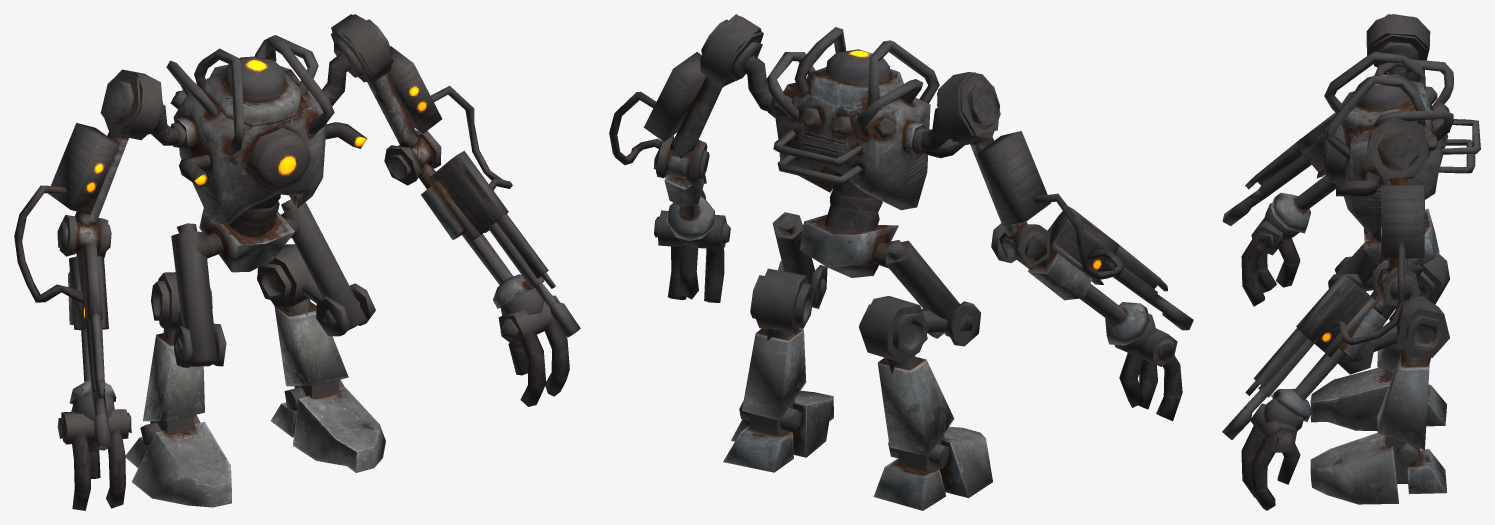
3 renders of one model, left to right at view 1: azimuth 30°, elevation 25°; view 2: azimuth 150°, elevation 25°; view 3: azimuth 270°, elevation 25°, orthographic. The views are drawn at different scales.
Visible parts, largest first — view 1: FBotmesh, FBotmesh.010, FBotmesh.011, FBotmesh.006, FBotmesh.004, FBotmesh.003, FBotmesh.002, FBotmesh.005, FBotmesh.001, FBotmesh.008, FBotmesh.007, FBotmesh.009; view 2: FBotmesh, FBotmesh.011, FBotmesh.010, FBotmesh.005, FBotmesh.006, FBotmesh.004, FBotmesh.001, FBotmesh.003, FBotmesh.002, FBotmesh.009, FBotmesh.008, FBotmesh.007; view 3: FBotmesh.010, FBotmesh, FBotmesh.006, FBotmesh.003, FBotmesh.011, FBotmesh.002, FBotmesh.001, FBotmesh.004, FBotmesh.005, FBotmesh.009, FBotmesh.008, FBotmesh.007.
Boxes of the visible parts, x1,y1,x2,y2 form: FBotmesh: [166, 35, 367, 237]; FBotmesh.010: [322, 14, 580, 337]; FBotmesh.011: [14, 69, 178, 450]; FBotmesh.006: [257, 244, 375, 386]; FBotmesh.004: [125, 414, 231, 507]; FBotmesh.003: [271, 379, 385, 472]; FBotmesh.002: [461, 230, 569, 406]; FBotmesh.005: [143, 272, 226, 421]; FBotmesh.001: [57, 328, 131, 510]; FBotmesh.008: [171, 223, 223, 366]; FBotmesh.007: [281, 199, 366, 330]; FBotmesh.009: [199, 207, 294, 272]; FBotmesh: [766, 27, 964, 233]; FBotmesh.011: [920, 72, 1193, 330]; FBotmesh.010: [609, 14, 771, 207]; FBotmesh.005: [859, 296, 980, 456]; FBotmesh.006: [742, 261, 827, 420]; FBotmesh.004: [873, 426, 992, 510]; FBotmesh.001: [1080, 283, 1182, 421]; FBotmesh.003: [723, 390, 833, 472]; FBotmesh.002: [654, 196, 730, 302]; FBotmesh.009: [799, 214, 898, 277]; FBotmesh.008: [873, 240, 959, 336]; FBotmesh.007: [772, 212, 814, 284]; FBotmesh.010: [1222, 117, 1430, 439]; FBotmesh: [1323, 51, 1480, 241]; FBotmesh.006: [1338, 296, 1449, 450]; FBotmesh.003: [1310, 433, 1446, 504]; FBotmesh.011: [1222, 14, 1430, 225]; FBotmesh.002: [1241, 347, 1346, 510]; FBotmesh.001: [1241, 175, 1335, 306]; FBotmesh.004: [1310, 367, 1447, 431]; FBotmesh.005: [1328, 253, 1449, 372]; FBotmesh.009: [1363, 209, 1439, 265]; FBotmesh.008: [1328, 243, 1377, 283]; FBotmesh.007: [1370, 258, 1423, 341].
Size of the model in its own units: 505 by 398 by 241.
